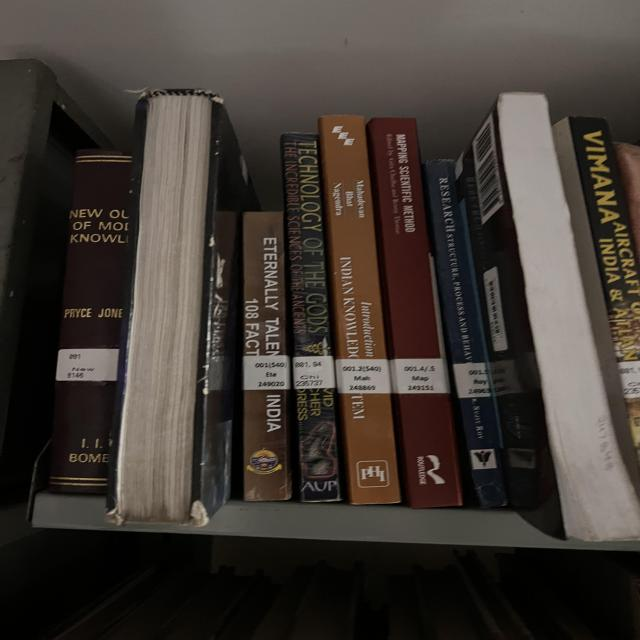Book: (367, 118, 462, 509), (318, 115, 400, 504), (423, 160, 507, 508), (50, 150, 132, 494), (280, 132, 342, 501), (243, 212, 292, 501)
Label: (390, 359, 448, 394), (335, 359, 392, 394), (57, 349, 118, 381), (243, 355, 290, 390), (453, 362, 492, 399), (292, 356, 335, 389)
